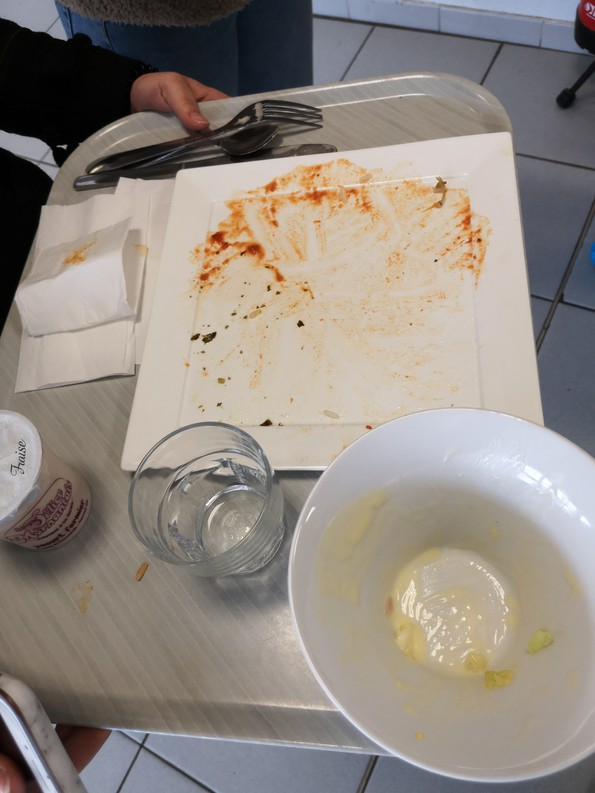cup: (118, 425, 296, 583)
cutlery: (53, 79, 371, 210)
trash: (30, 204, 144, 384), (1, 405, 112, 563)
